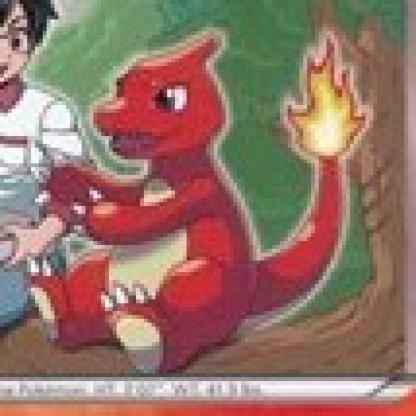Charmeleon: (1, 28, 377, 369)
